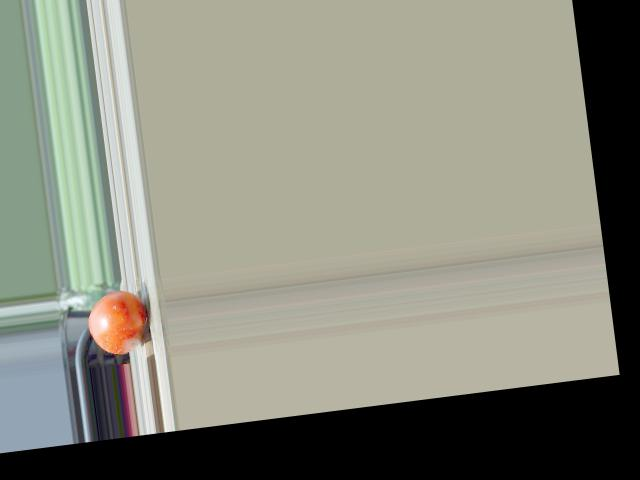tomato: (84, 287, 149, 357)
